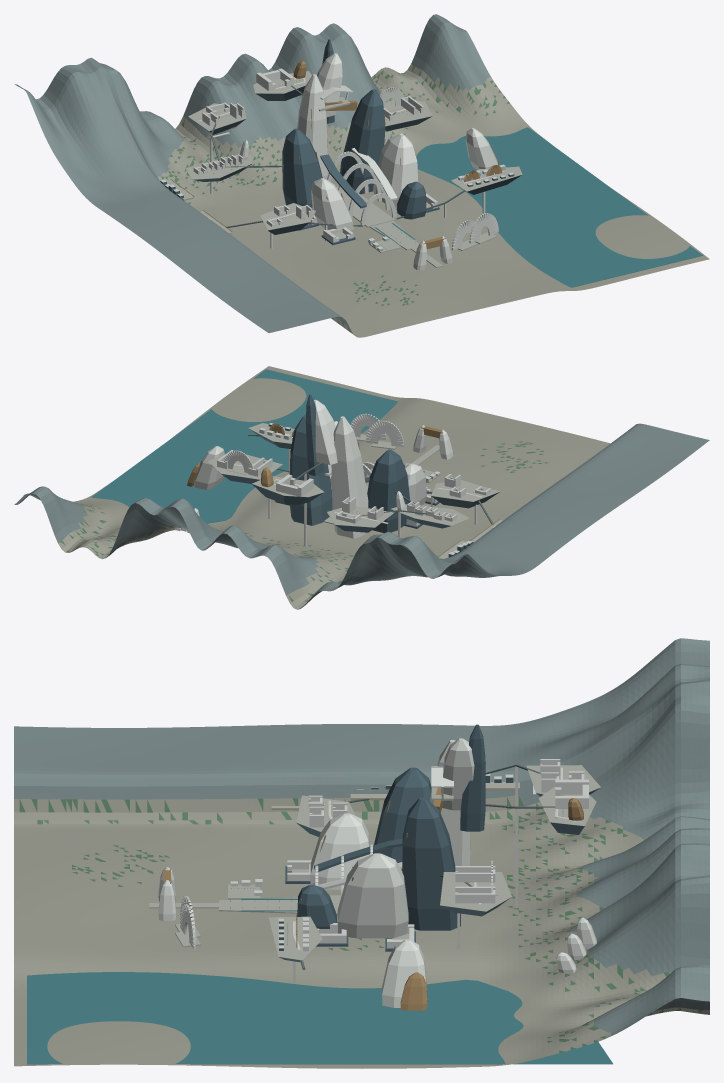
Rendered from R27B_LIVING_HORIZONS.glb.
The picture shows the model from 3 angles, top to bottom: view 1: azimuth 30°, elevation 25°; view 2: azimuth 150°, elevation 25°; view 3: azimuth 270°, elevation 25°; orthographic projection. The views are drawn at different scales.
Visible parts, largest first — view 1: New hypothetical basin / NOT W0 source, Artificial inland sea study, Central occupied bank 4, Central occupied bank 2, Central occupied bank 3, Central occupied bank 5, Central occupied bank 1, Central occupied bank 6, Sail citadel analogue / unassigned, Displaced high civic citadel, NAVE_REAL_FLOOR, C_HARBOR_public_surface (+6 smaller); view 2: New hypothetical basin / NOT W0 source, Artificial inland sea study, Central occupied bank 3, Central occupied bank 2, Central occupied bank 4, Displaced high civic citadel, Celestial spine, Sail citadel analogue / unassigned, B_CASCADE_public_surface, Central occupied bank 1, F_REVERSE_public_surface, A_RIDGE_public_surface (+3 smaller); view 3: New hypothetical basin / NOT W0 source, Artificial inland sea study, Central occupied bank 4, Central occupied bank 5, Central occupied bank 1, Central occupied bank 2, Celestial spine, Sail citadel analogue / unassigned, Displaced high civic citadel, C_HARBOR_public_surface, Central occupied bank 6, D_CULTURE_public_surface (+7 smaller).
Boxes of the visible parts, bbox=[...] form: New hypothetical basin / NOT W0 source: bbox=[14, 14, 709, 337]; Artificial inland sea study: bbox=[416, 127, 702, 287]; Central occupied bank 4: bbox=[340, 89, 385, 194]; Central occupied bank 2: bbox=[282, 128, 322, 209]; Central occupied bank 3: bbox=[297, 74, 327, 179]; Central occupied bank 5: bbox=[373, 133, 417, 207]; Central occupied bank 1: bbox=[311, 178, 353, 230]; Central occupied bank 6: bbox=[396, 181, 426, 219]; Sail citadel analogue / unassigned: bbox=[465, 128, 497, 169]; Displaced high civic citadel: bbox=[317, 53, 342, 116]; NAVE_REAL_FLOOR: bbox=[336, 186, 395, 227]; C_HARBOR_public_surface: bbox=[451, 166, 522, 191]; New hypothetical basin / NOT W0 source: bbox=[14, 366, 709, 609]; Artificial inland sea study: bbox=[91, 369, 398, 523]; Central occupied bank 3: bbox=[331, 416, 368, 538]; Central occupied bank 2: bbox=[367, 449, 409, 532]; Central occupied bank 4: bbox=[289, 415, 332, 525]; Displaced high civic citadel: bbox=[314, 399, 337, 464]; Celestial spine: bbox=[305, 394, 323, 476]; Sail citadel analogue / unassigned: bbox=[193, 446, 224, 490]; B_CASCADE_public_surface: bbox=[431, 480, 499, 501]; Central occupied bank 1: bbox=[405, 463, 426, 505]; F_REVERSE_public_surface: bbox=[327, 506, 394, 527]; A_RIDGE_public_surface: bbox=[390, 504, 469, 525]; New hypothetical basin / NOT W0 source: bbox=[14, 638, 709, 1068]; Artificial inland sea study: bbox=[27, 972, 612, 1064]; Central occupied bank 4: bbox=[402, 797, 460, 930]; Central occupied bank 5: bbox=[337, 853, 408, 938]; Central occupied bank 1: bbox=[310, 813, 370, 889]; Central occupied bank 2: bbox=[373, 767, 431, 870]; Celestial spine: bbox=[460, 724, 485, 831]; Sail citadel analogue / unassigned: bbox=[382, 939, 426, 1007]; Displaced high civic citadel: bbox=[441, 738, 474, 810]; C_HARBOR_public_surface: bbox=[268, 916, 322, 960]; Central occupied bank 6: bbox=[297, 884, 337, 928]; D_CULTURE_public_surface: bbox=[440, 872, 511, 911].
Bounding box in the file's own units: 10800 × 3490 × 10800.
